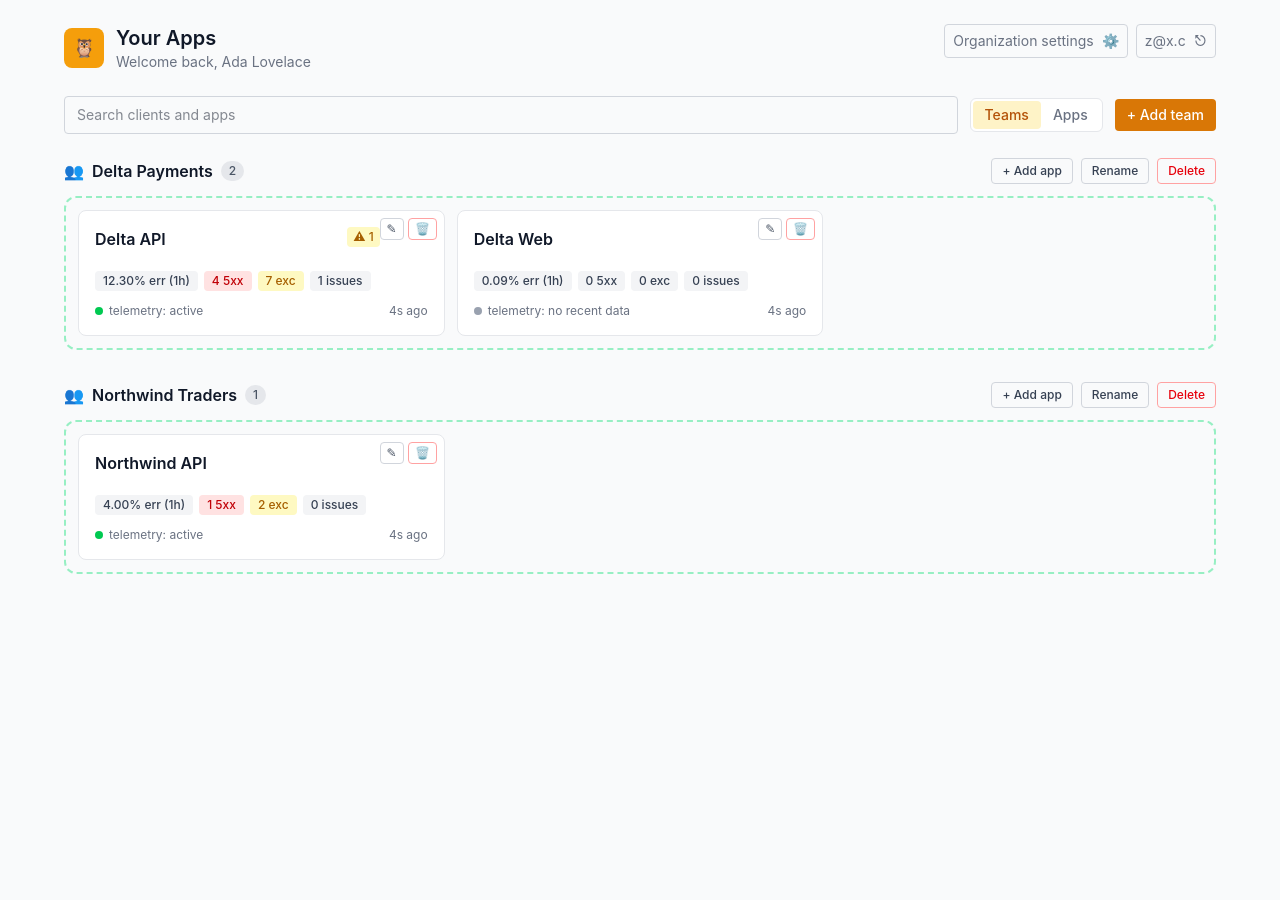
Test: OrgDashboard › opens the Add team modal and creates a team
Click the button with test id "add-team" at x=1165, y=115, box [1115,99,1216,131]
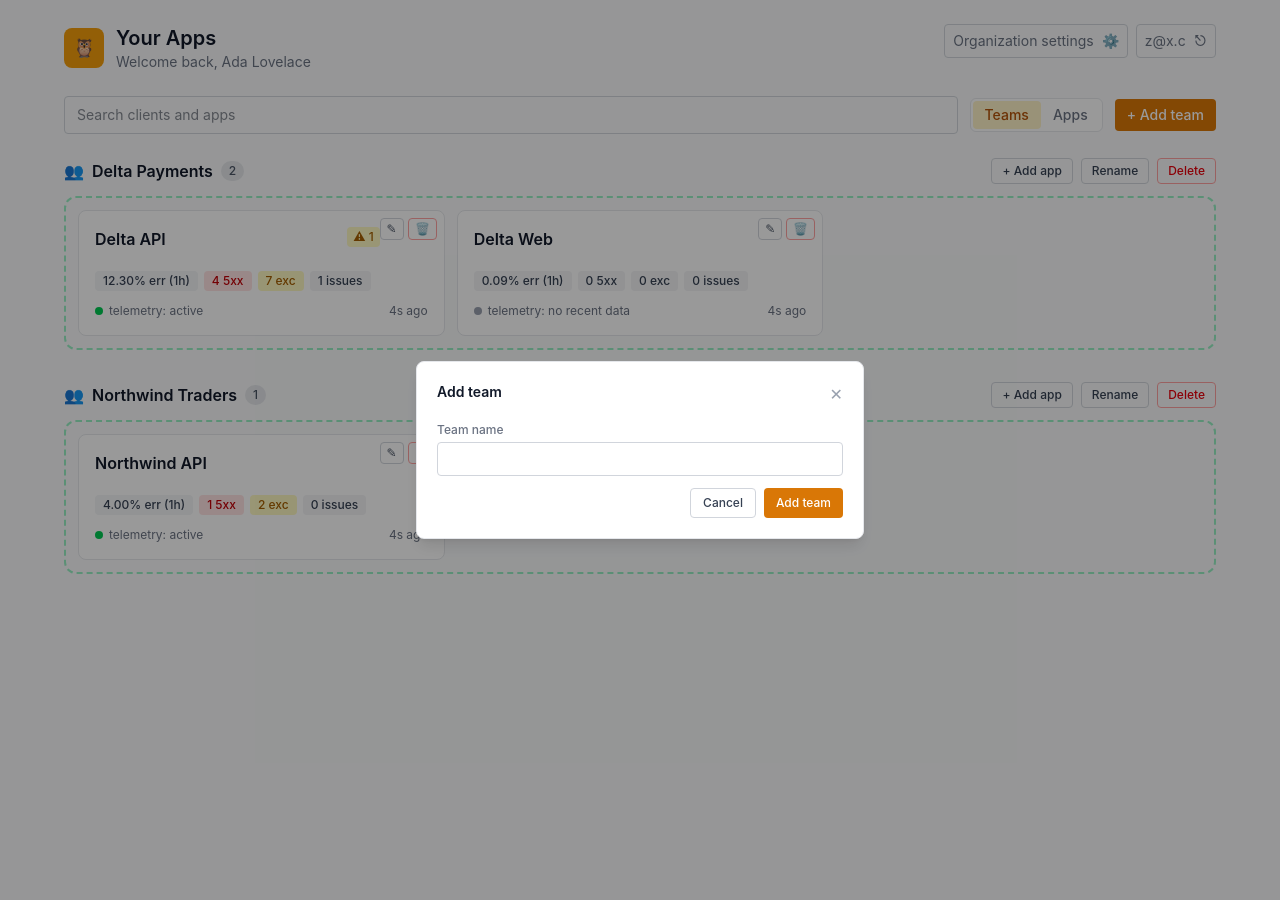
Expected: the field with test id "team-modal-name" is shown
Type "New Team" into the field with test id "team-modal-name" at x=640, y=459, box [437,442,843,476]
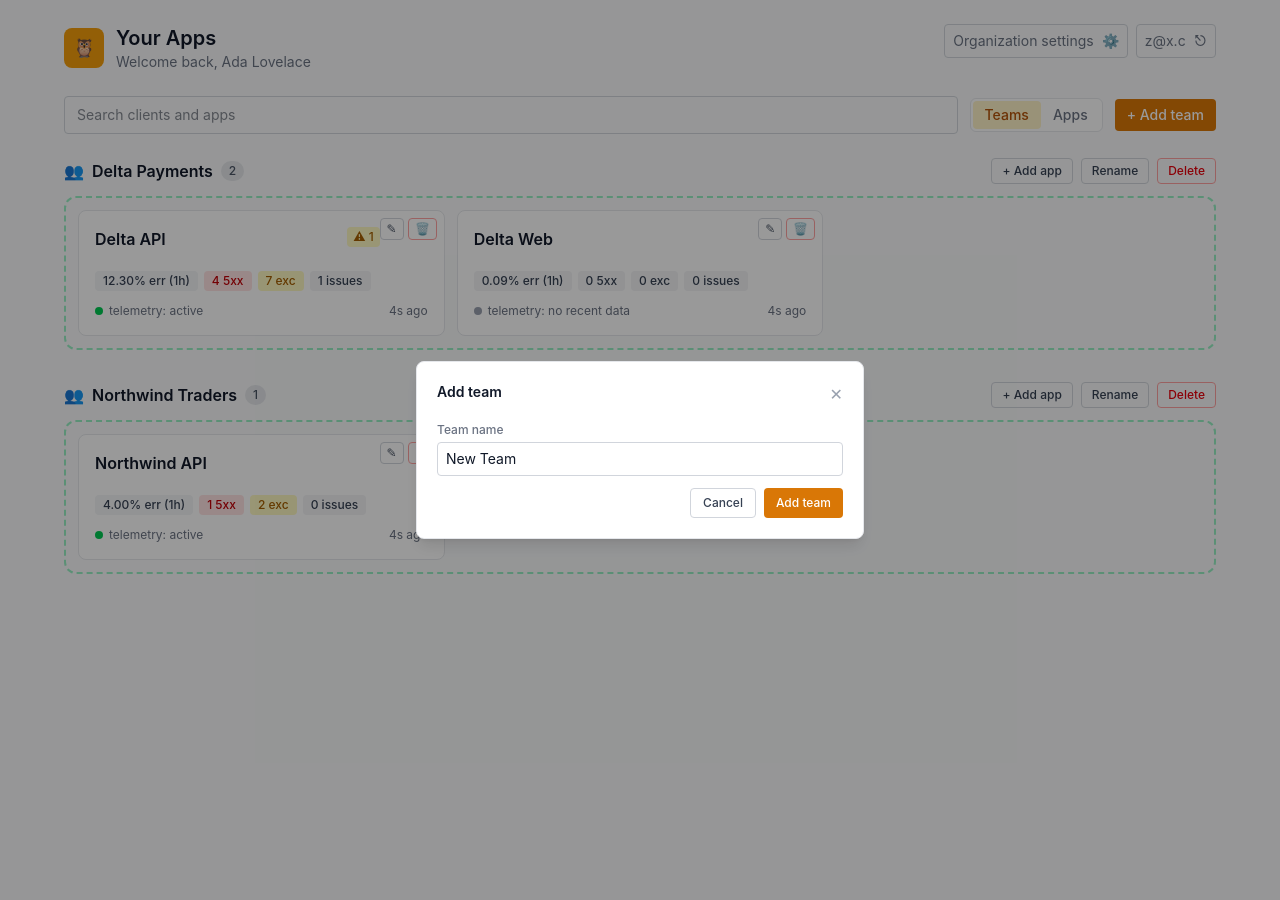
Click the button with test id "team-modal-submit" at x=803, y=503, box [764,488,843,518]
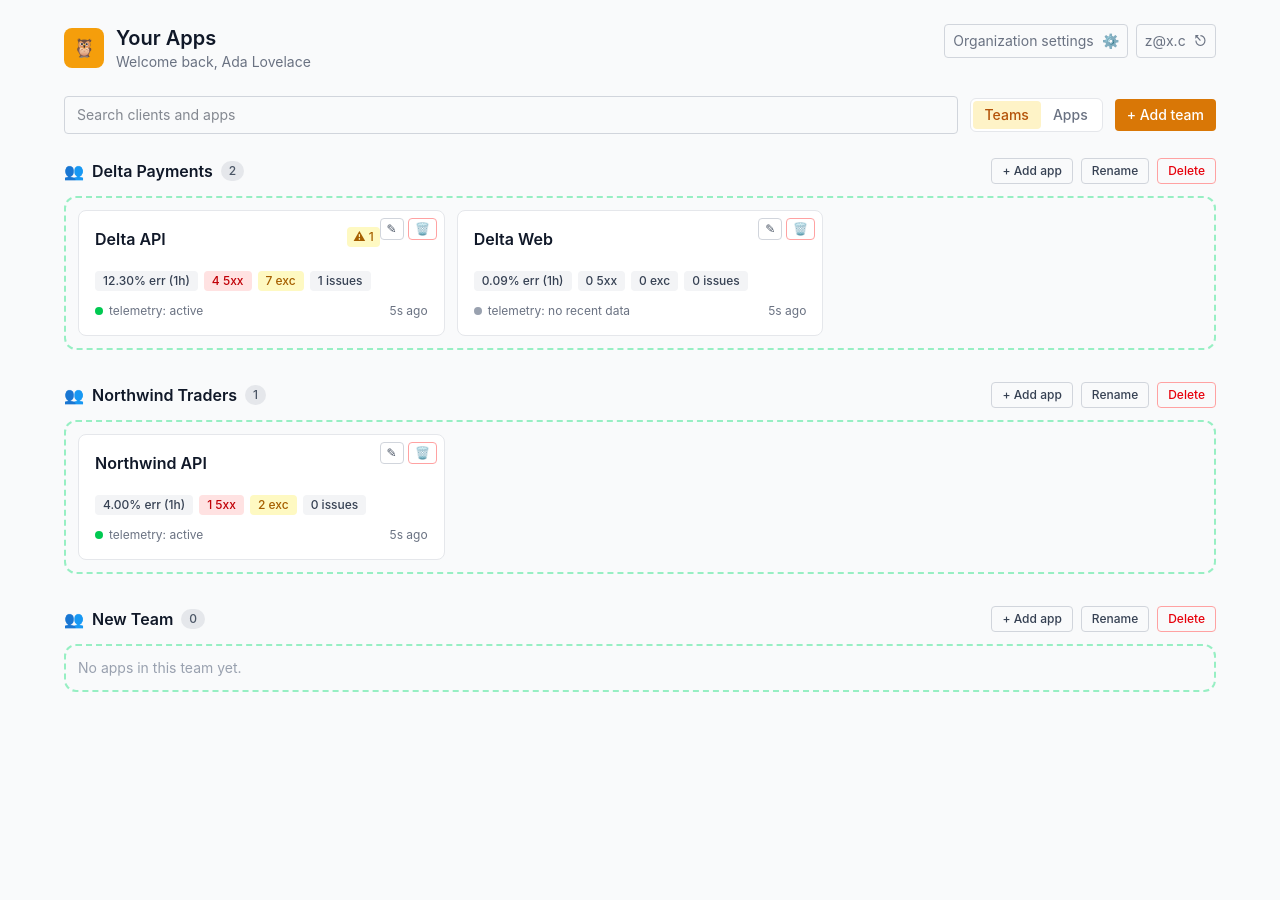
Expected: the text "New Team" is shown, [92,607,173,631]
